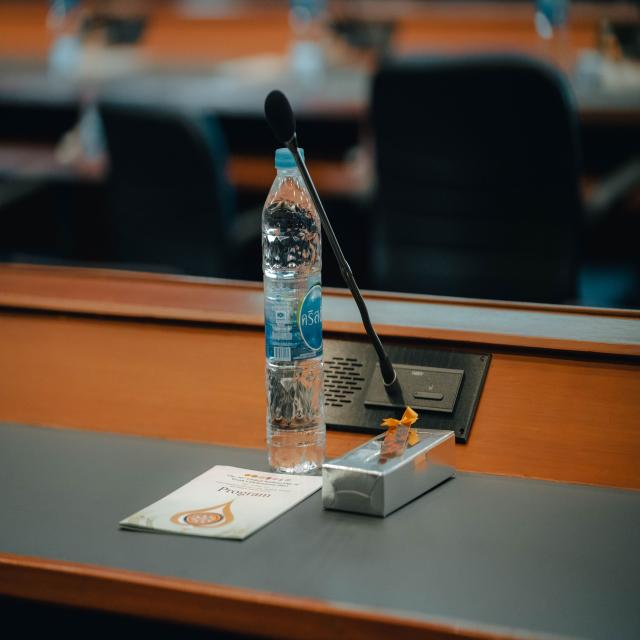Bottle: (262, 149, 325, 473)
